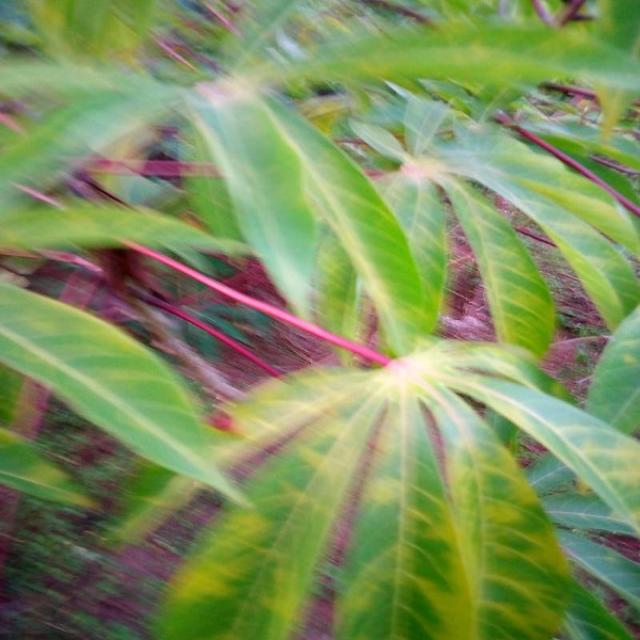cassava leaf: (2, 2, 640, 638), (181, 79, 441, 364), (2, 278, 255, 511)
